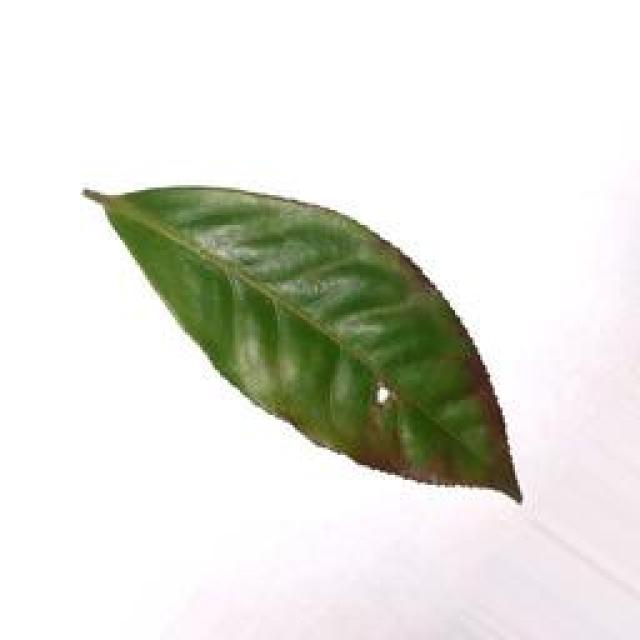Red Leaf Spot: (70, 147, 524, 506)
